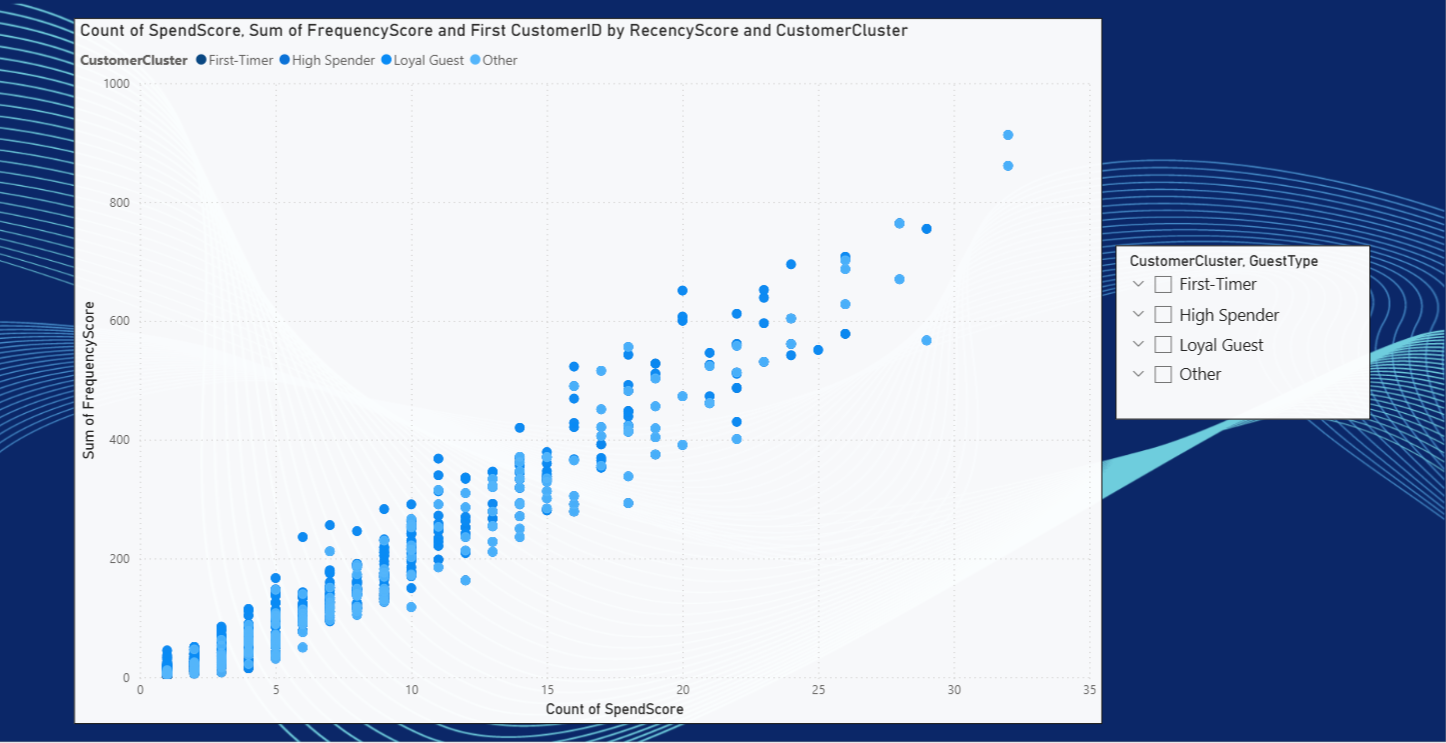

This screenshot's page, from the dashboard's own definition file:
{"tool":"powerbi","page":{"name":"Page 5","canvas":[1280,720],"ordinal":5},"visuals":[{"type":"scatterChart","fields":{"Y":["Sum(Tbl_Guests.FrequencyScore)"],"Category":["Tbl_Guests.RecencyScore"],"X":["CountNonNull(Tbl_Guests.SpendScore)"],"Series":["Bookings.CustomerCluster"]},"box":[12.4,18.7,997.7,684.2],"z":0},{"type":"slicer","fields":{"Values":["Bookings.CustomerCluster","Bookings.GuestType"]},"box":[1022.5,238.8,247.5,169.2],"z":1000}]}

Visuals, with their boxes in screenshot pixels (x1, y1, x2, y2):
scatterChart - Sum(Tbl_Guests.FrequencyScore) x Tbl_Guests.RecencyScore: [77,19,1090,714]
slicer - Bookings.CustomerCluster x Bookings.GuestType: [1103,243,1354,415]
